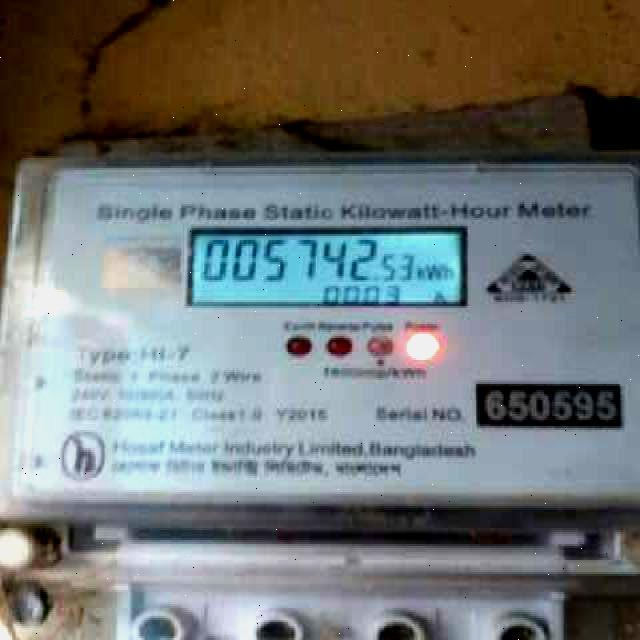LCD: (178, 220, 478, 316)
